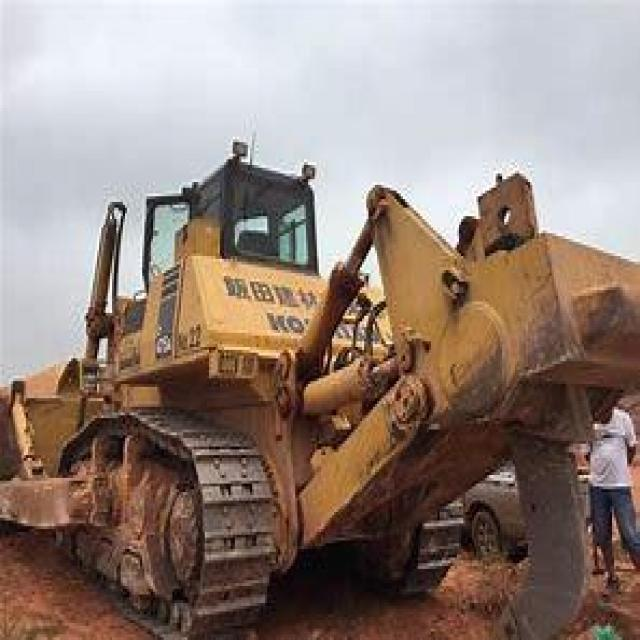Bulldozer: (26, 83, 638, 637)
